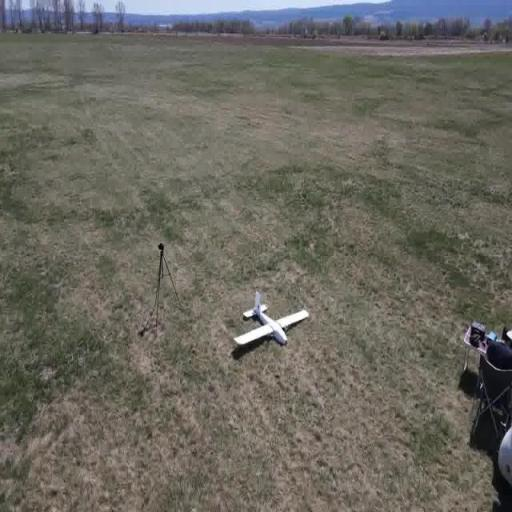uav: (231, 292, 312, 358)
